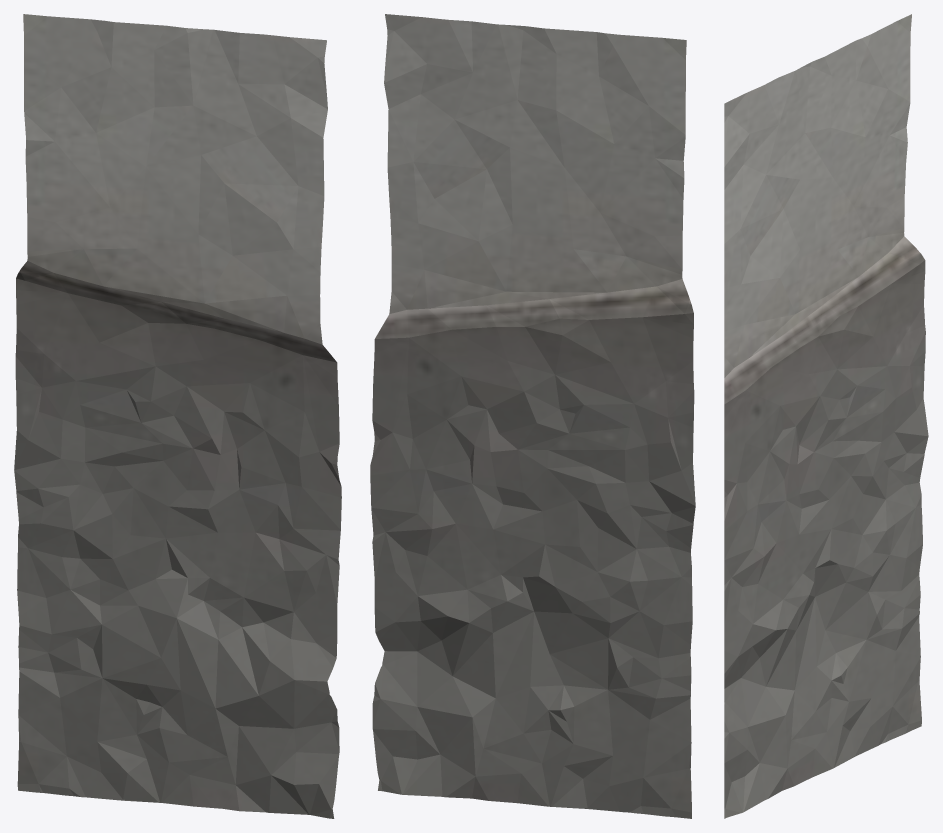
The picture shows the model from 3 angles, left to right: view 1: azimuth 30°, elevation 25°; view 2: azimuth 210°, elevation 25°; view 3: azimuth 270°, elevation 25°; orthographic projection. The views are drawn at different scales.
Size of the model in its own units: 0.2423 by 0.8374 by 0.2176.
Materials: 1 (1 with a texture image).
